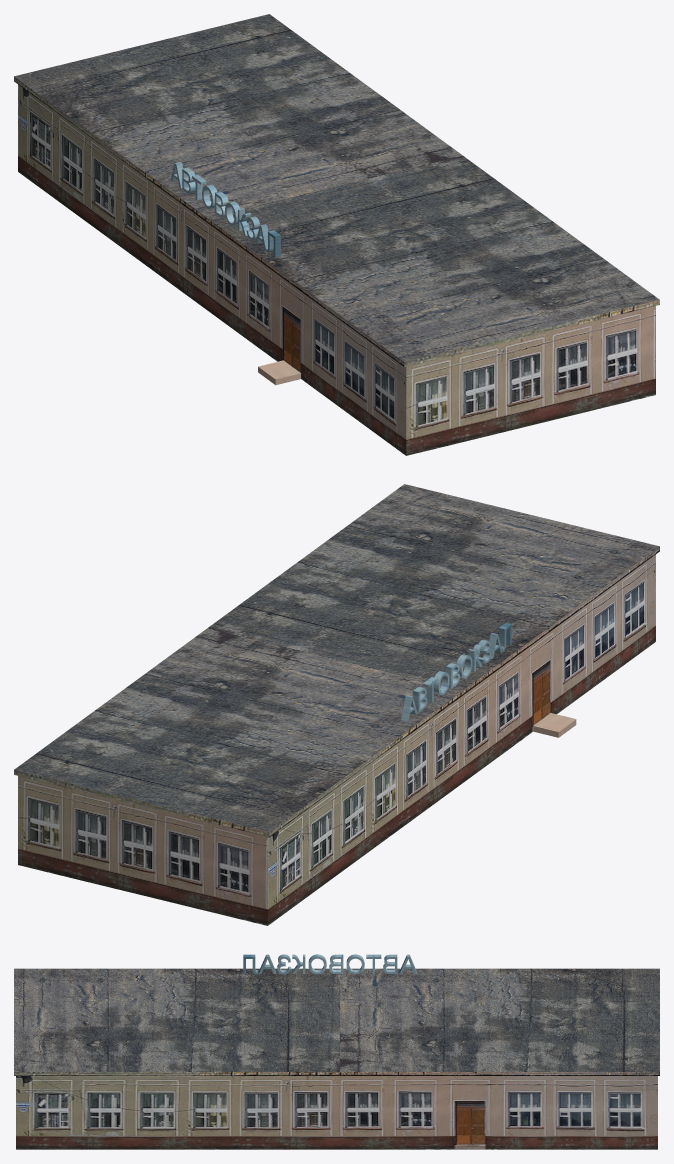
The model's file is r402_tukalinsk_avtovokzal.FBX.
3 views of the same model, one above another, from view 1: azimuth 30°, elevation 25°; view 2: azimuth 150°, elevation 25°; view 3: azimuth 270°, elevation 25° (orthographic). The views are drawn at different scales.
Visible parts, largest first — view 1: r402_tukalinsk_avtovokzal; view 2: r402_tukalinsk_avtovokzal; view 3: r402_tukalinsk_avtovokzal.
Boxes of the visible parts, x1,y1,x2,y2 form: r402_tukalinsk_avtovokzal: [14, 14, 659, 455]; r402_tukalinsk_avtovokzal: [14, 484, 659, 925]; r402_tukalinsk_avtovokzal: [14, 954, 659, 1149].
Bounding box in the file's own units: 1448 × 3520 × 583.
